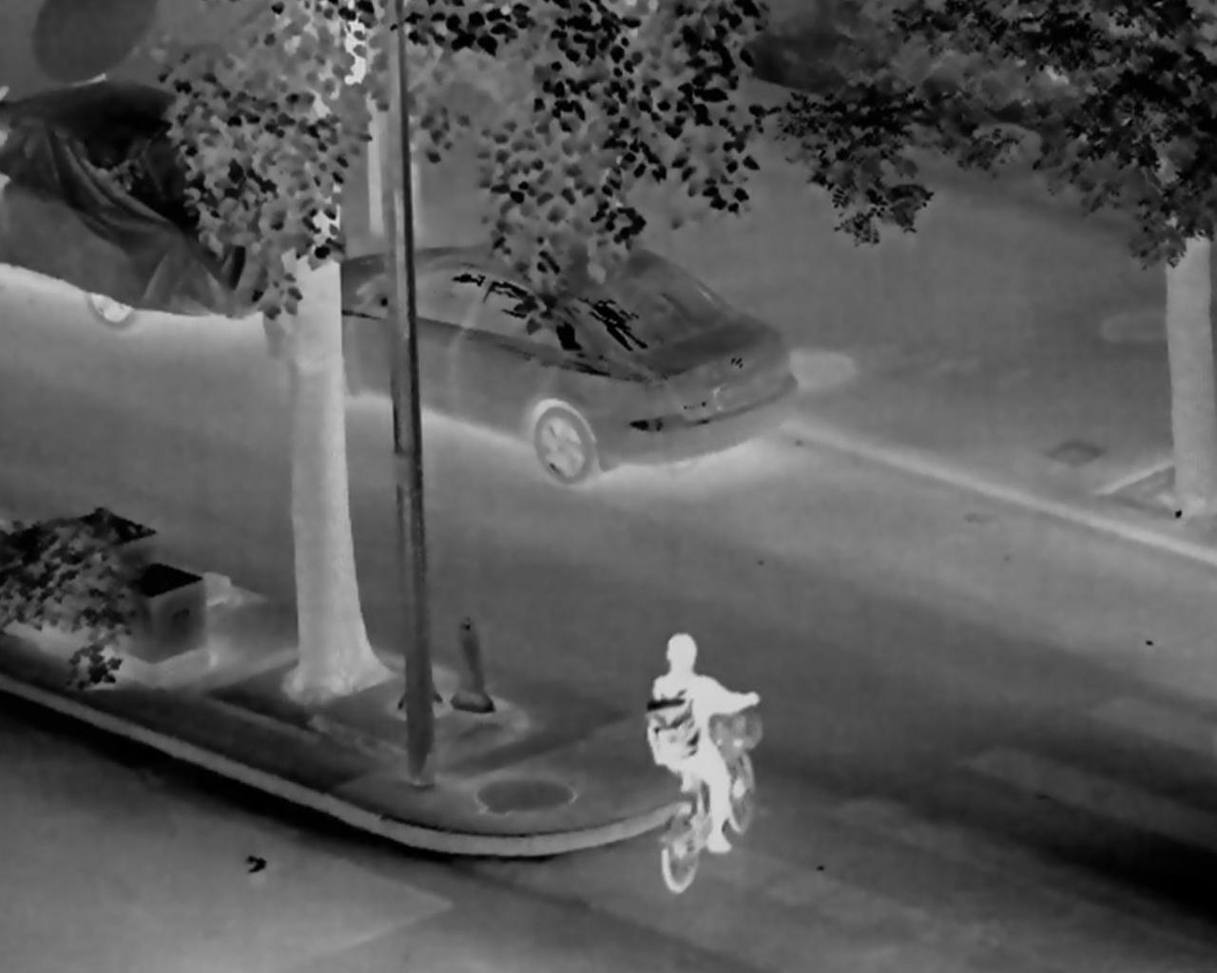person: (646, 634, 760, 852)
